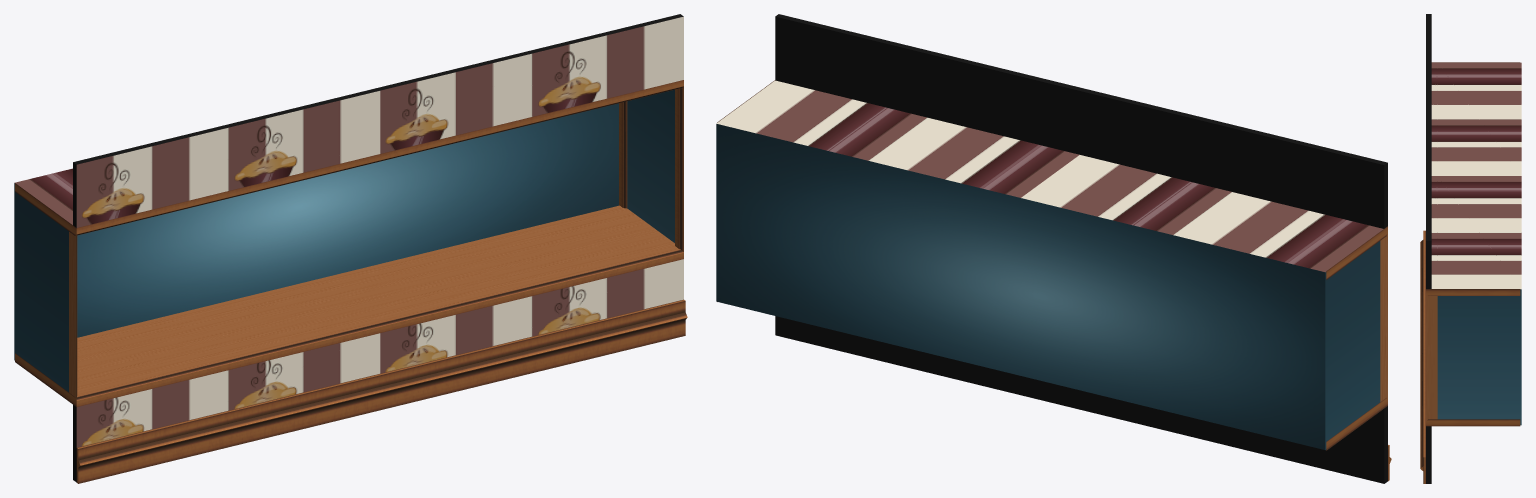
The model's file is Wall_Window__DoubleDisplay_A_03.FBX.
3 renders of one model, left to right at view 1: azimuth 30°, elevation 25°; view 2: azimuth 150°, elevation 25°; view 3: azimuth 270°, elevation 25°, orthographic. The views are drawn at different scales.
Visible parts, largest first — view 1: Wall_Window Display; view 2: Wall_Window Display; view 3: Wall_Window Display.
Boxes of the visible parts, x1,y1,x2,y2 form: Wall_Window Display: (14, 14, 687, 483); Wall_Window Display: (716, 14, 1391, 483); Wall_Window Display: (1420, 14, 1521, 483).
Size of the model in its own units: 1000 by 500 by 189.
